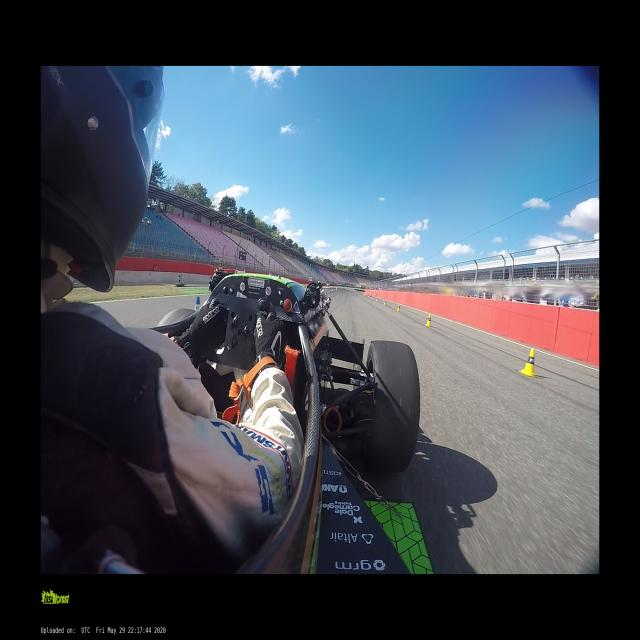blue_cone: (196, 297, 200, 311)
yellow_cone: (521, 349, 538, 377), (426, 314, 432, 326), (397, 304, 400, 311), (384, 299, 386, 305), (376, 296, 378, 302), (371, 295, 373, 299)
